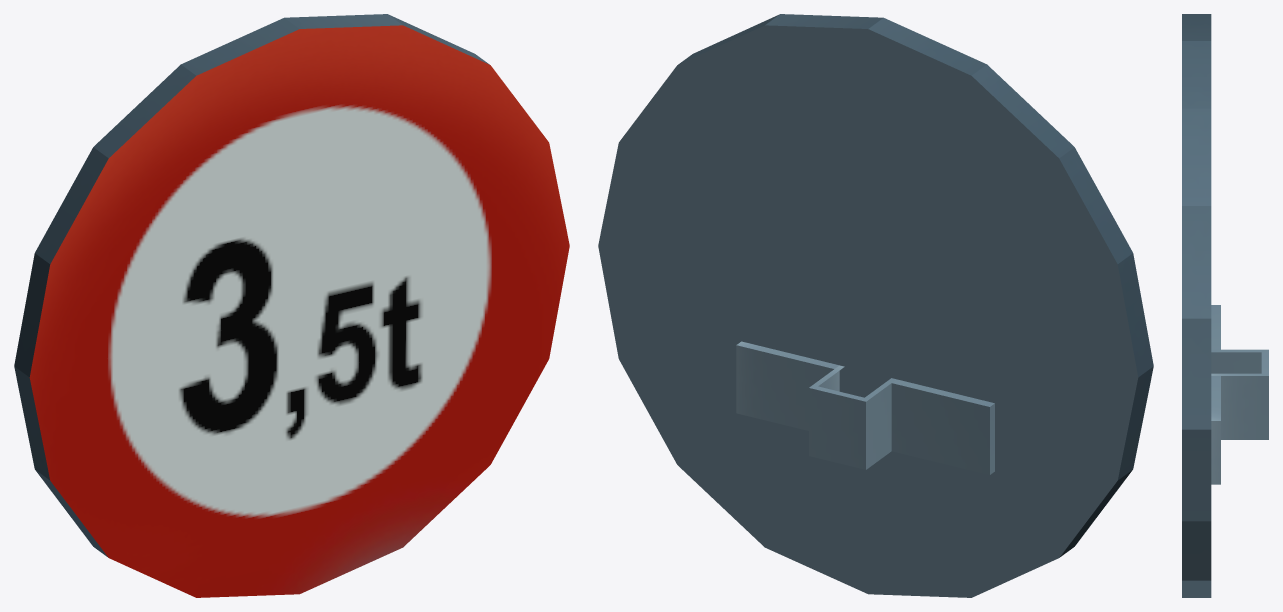
Rendered from Sign40Austrian.fbx.
3 views of the same model, side by side, from view 1: azimuth 30°, elevation 25°; view 2: azimuth 150°, elevation 25°; view 3: azimuth 270°, elevation 25° (orthographic). The views are drawn at different scales.
Visible parts, largest first — view 1: Sign40Austrian; view 2: Sign40Austrian; view 3: Sign40Austrian.
Boxes of the visible parts, x1,y1,x2,y2 form: Sign40Austrian: [14, 14, 569, 597]; Sign40Austrian: [598, 14, 1153, 597]; Sign40Austrian: [1182, 14, 1268, 597].
Size of the model in its own units: 1 by 1 by 0.1489.
